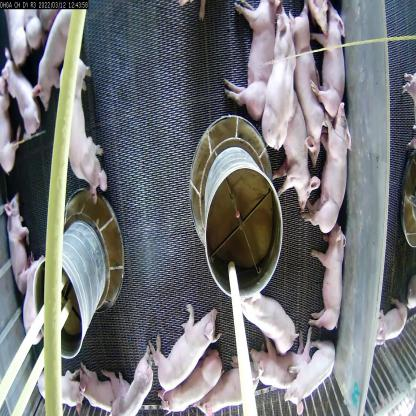Pig: (60, 57, 105, 200), (314, 108, 354, 259), (294, 4, 328, 170), (231, 278, 305, 354), (304, 2, 350, 123), (258, 13, 296, 156), (152, 301, 212, 389), (36, 3, 79, 119), (281, 339, 345, 415), (9, 44, 50, 149), (234, 0, 269, 120), (199, 362, 273, 415), (279, 96, 317, 198), (159, 359, 228, 415), (0, 206, 35, 312), (19, 247, 53, 354), (250, 333, 316, 388), (315, 225, 343, 341), (115, 355, 164, 415), (0, 73, 26, 178), (79, 368, 119, 415)
